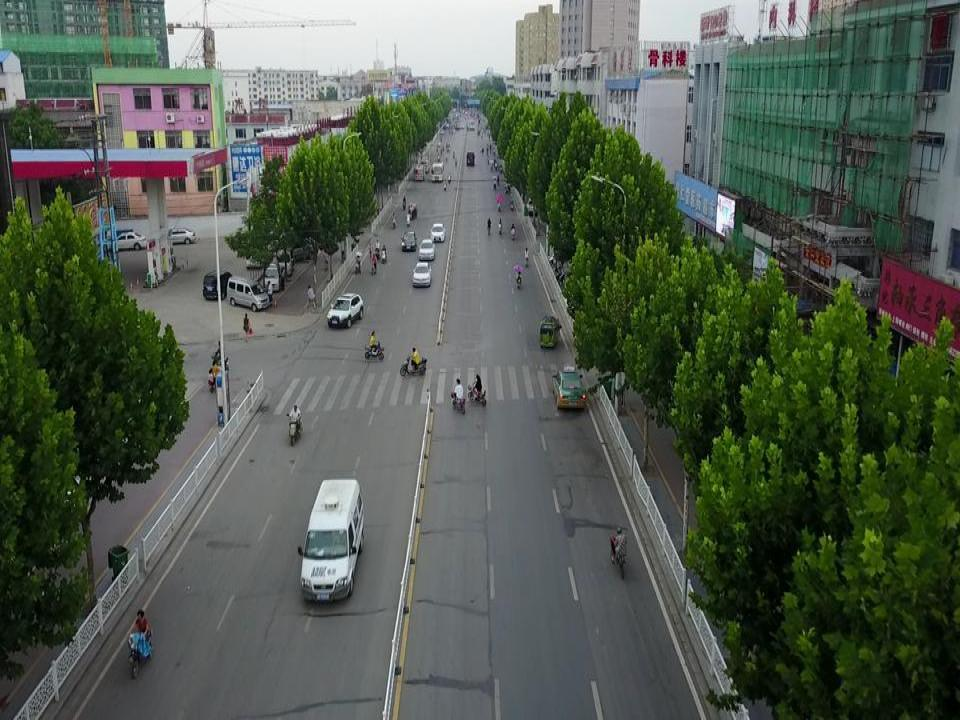bus: (430, 161, 444, 183), (468, 120, 475, 129)
car: (549, 367, 588, 409), (327, 291, 364, 328), (109, 232, 147, 251), (159, 227, 196, 245), (411, 261, 432, 287), (418, 239, 435, 260), (429, 222, 446, 243), (401, 231, 417, 252), (524, 194, 539, 214), (460, 123, 465, 128)
van: (297, 477, 363, 607), (226, 275, 269, 312), (274, 233, 321, 264), (202, 269, 235, 300), (242, 235, 272, 269), (264, 260, 280, 292), (277, 250, 294, 278), (414, 164, 425, 181), (465, 151, 475, 165), (420, 157, 429, 172)
